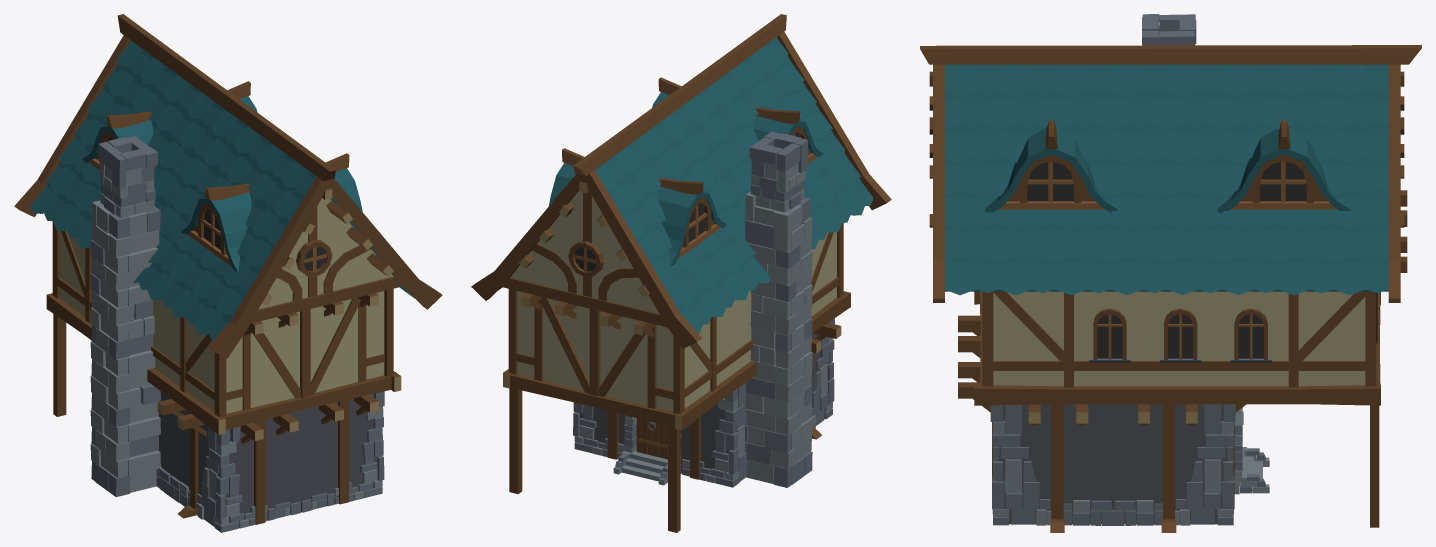
The model's file is v_house_2.glb.
3 renders of one model, left to right at view 1: azimuth 30°, elevation 25°; view 2: azimuth 150°, elevation 25°; view 3: azimuth 270°, elevation 25°, orthographic. The views are drawn at different scales.
Parts seen in each view (by area): view 1: House_2; view 2: House_2; view 3: House_2.
Part boxes in pixels (<box>): House_2: <box>14,14,442,532</box>; House_2: <box>471,14,891,532</box>; House_2: <box>920,14,1421,532</box>.
Bounding box in the file's own units: 2.22 × 3.25 × 3.42.
